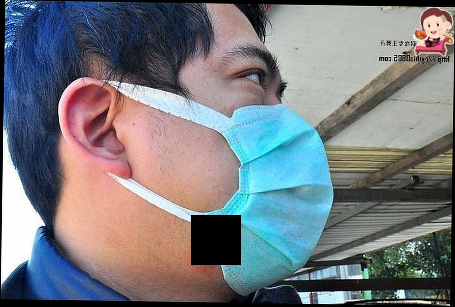with_mask: (135, 41, 338, 297)
